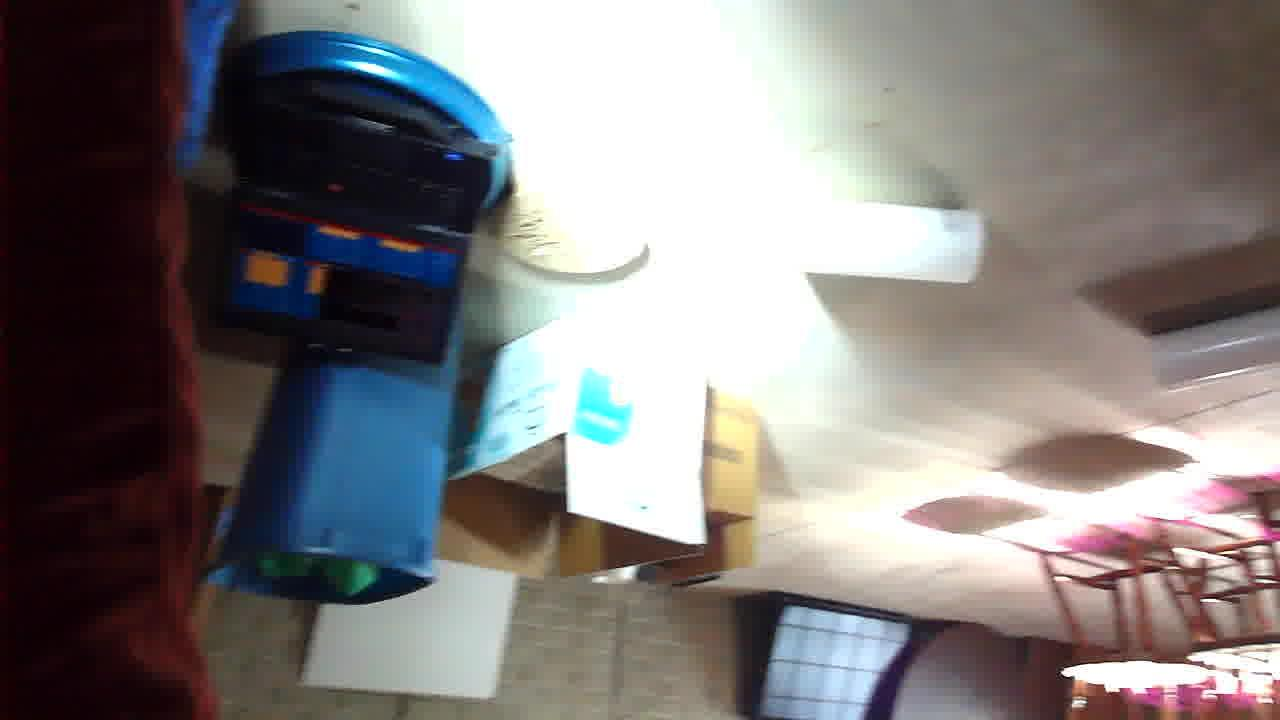coral: (306, 433, 467, 532), (0, 326, 130, 407)
